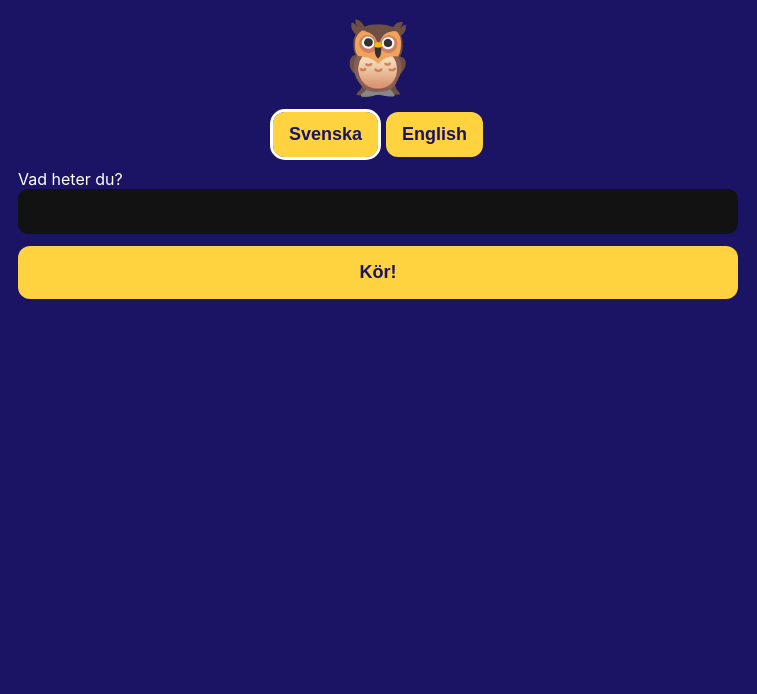
Test case: App › onboards then immediately starts a question (no menus)
Type "Elsa" into the field labelled "Vad heter du?" at (378, 212), box [18,189,738,234]
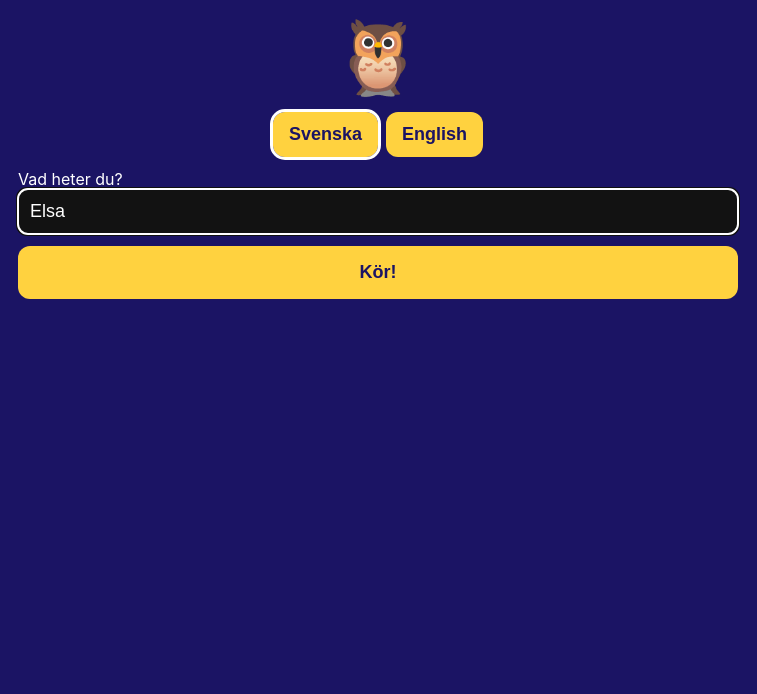
Click the button "Kör!" at (378, 272), box [18,246,738,299]
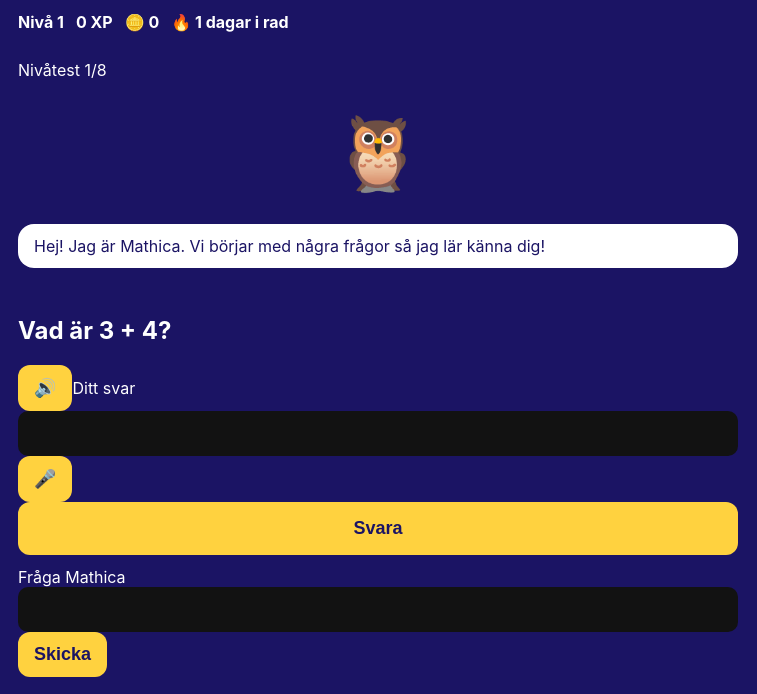
Expected: the heading "Vad är 3 + 4?" is shown, [18,316,172,345]
